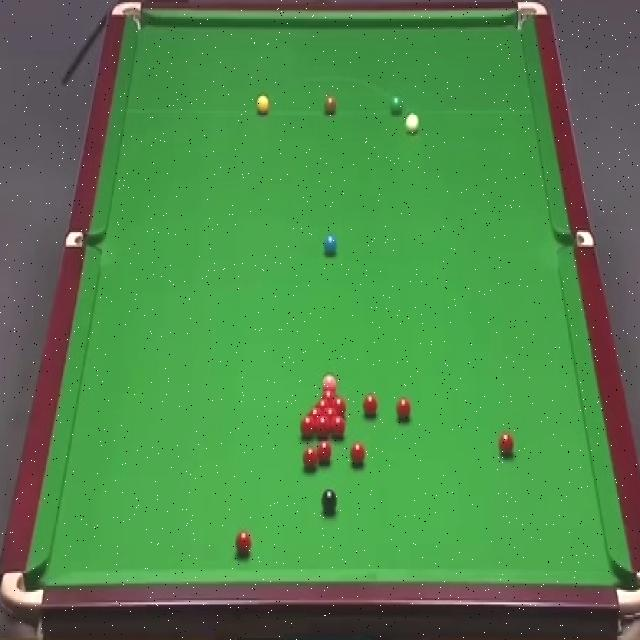black-ball: (321, 488, 337, 516)
blue-ball: (322, 232, 336, 256)
brown-ball: (324, 95, 337, 115)
green-ball: (388, 93, 402, 115)
pink-ball: (325, 372, 341, 388)
red-ball: (361, 392, 378, 419), (348, 442, 367, 466), (235, 530, 251, 558), (498, 433, 516, 457), (396, 394, 412, 421), (302, 446, 318, 469), (330, 415, 346, 438), (317, 440, 332, 464), (315, 416, 328, 440), (330, 397, 348, 412), (301, 416, 314, 436), (322, 406, 338, 418), (321, 387, 336, 399), (308, 407, 322, 419), (317, 397, 329, 408)
white-ball: (404, 112, 421, 135)
yellow-ball: (258, 95, 271, 116)
